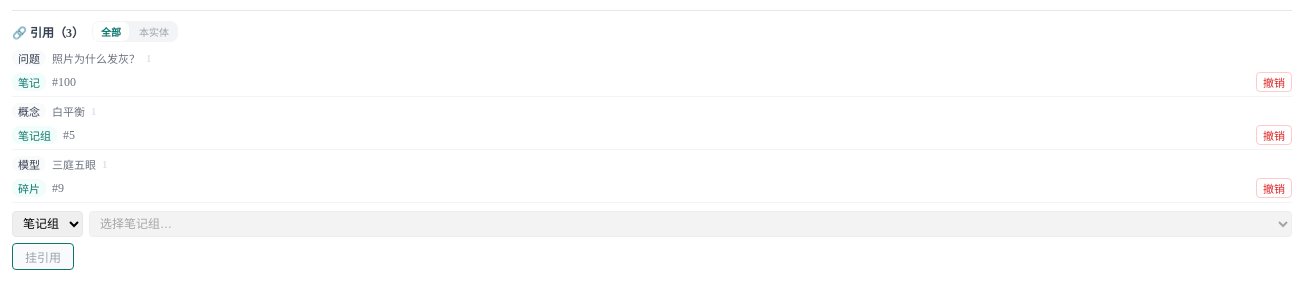
KnowledgeLinkSection 聚合视图（v0.14 C3） › 切「本实体」模式 → 仅当前实体引用（node:11 一条）
Click the button with test id "ref-mode-entity". click: (154, 32)
box: [131,22,177,41]
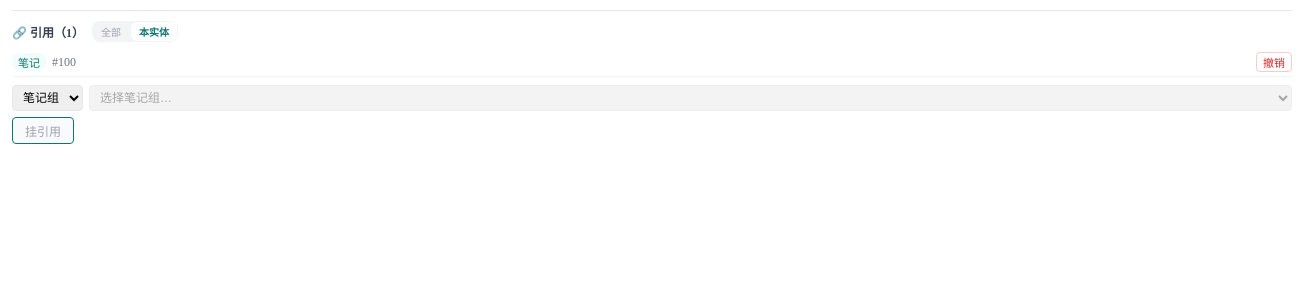
Expected: the number of elements with test id "link-row" is 1, [12,48,1292,77]
Expected: the text "🔗 引用（1）" is shown, [12,22,84,40]
